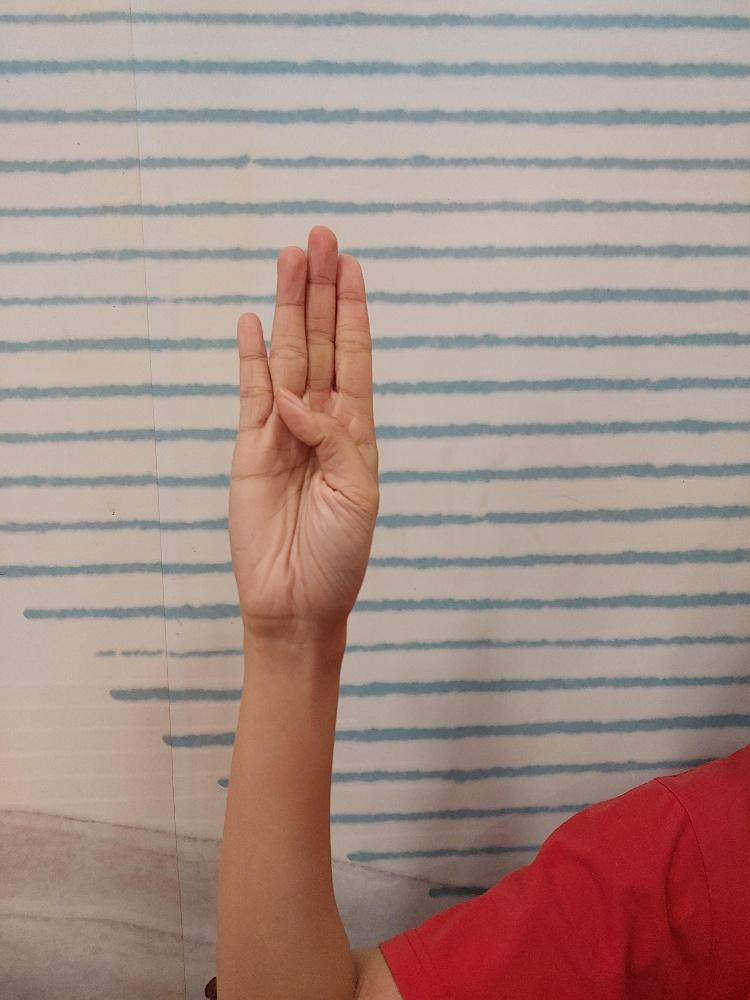b: (224, 222, 381, 627)
